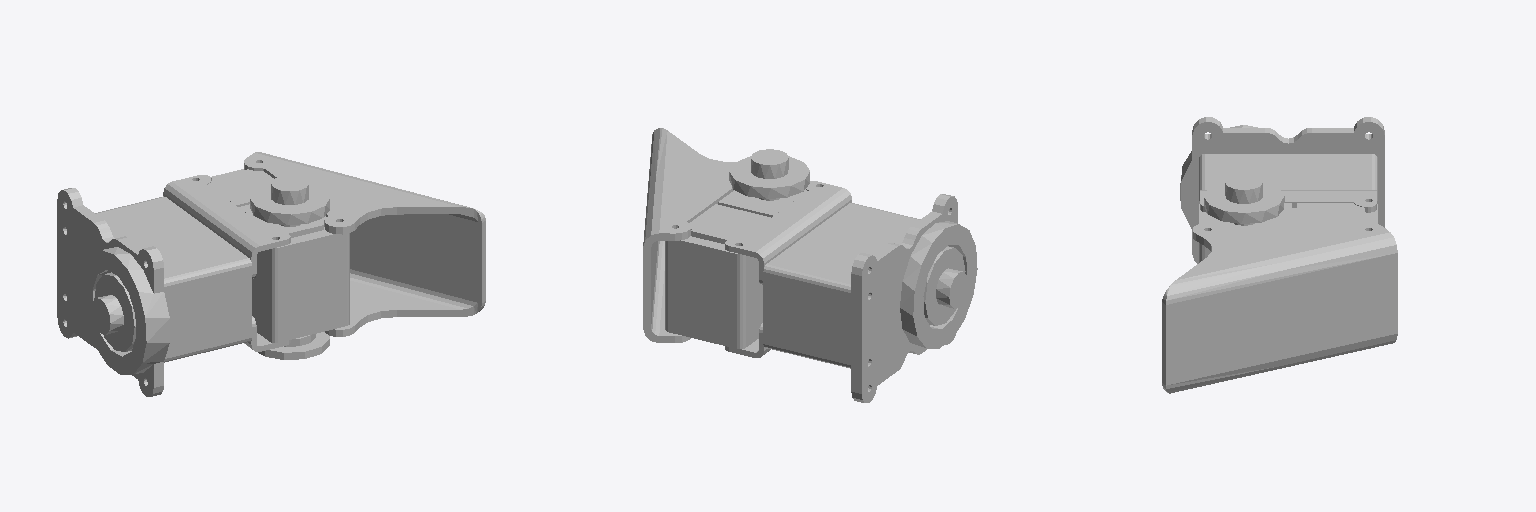
The model's file is arm_v1__1__1_mesh.obj.
3 views of the same model, side by side, from view 1: azimuth 30°, elevation 25°; view 2: azimuth 150°, elevation 25°; view 3: azimuth 270°, elevation 25° (orthographic).
Visible parts, largest first — view 1: Body15, Body9, Body5, Body10, Body14, Body3; view 2: Body9, Body5, Body10, Body15, Body14; view 3: Body15, Body10, Body5, Body9, Body14.
Part boxes in pixels (left/top/right/bottom): Body15: left=244, top=152, right=485, bottom=336; Body9: left=91, top=196, right=251, bottom=362; Body5: left=208, top=169, right=349, bottom=342; Body10: left=57, top=188, right=169, bottom=396; Body14: left=163, top=175, right=290, bottom=278; Body3: left=252, top=332, right=329, bottom=359; Body9: left=763, top=203, right=967, bottom=368; Body5: left=665, top=149, right=809, bottom=348; Body10: left=851, top=194, right=977, bottom=402; Body15: left=643, top=128, right=735, bottom=342; Body14: left=725, top=181, right=851, bottom=284; Body15: left=1162, top=223, right=1397, bottom=393; Body10: left=1180, top=117, right=1384, bottom=263; Body5: left=1199, top=174, right=1377, bottom=262; Body9: left=1199, top=154, right=1377, bottom=203; Body14: left=1200, top=190, right=1376, bottom=212.
Size of the model in its own units: 0.0988 by 0.0446 by 0.0583.